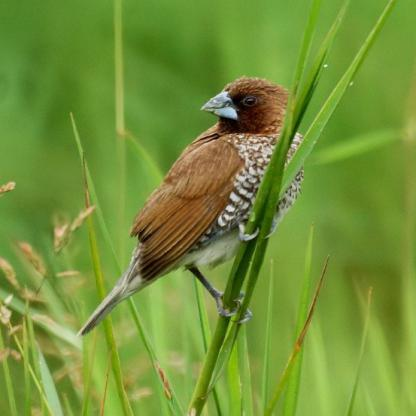Burung: (80, 76, 302, 328)
